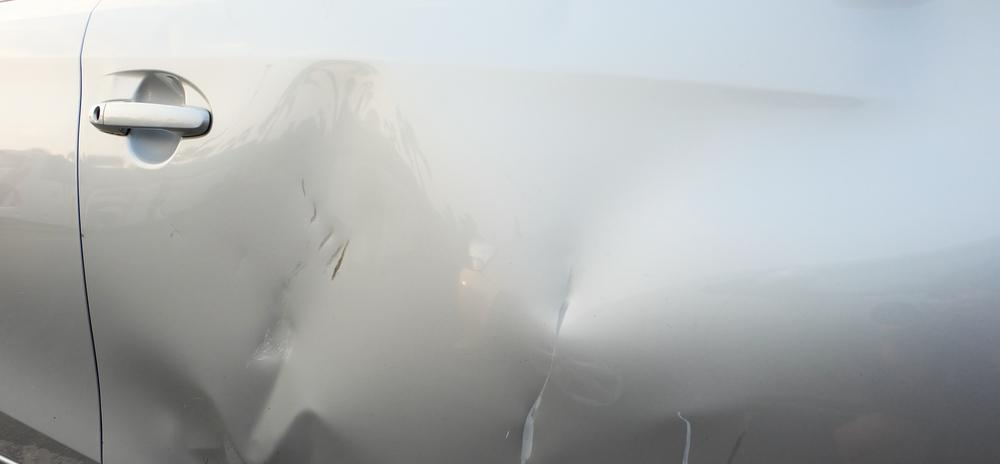dent: (118, 62, 422, 464), (487, 208, 670, 464)
